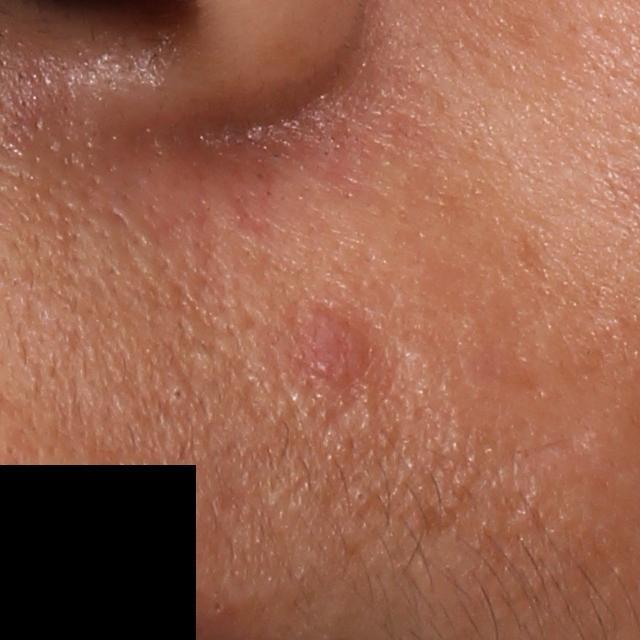comedo: (168, 382, 190, 408), (210, 597, 226, 619)
papule: (290, 308, 376, 388)
